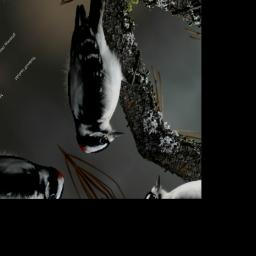Woodpecker: (13, 0, 179, 167)
